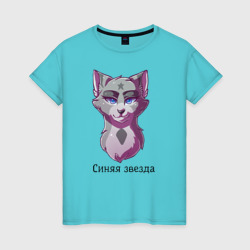cat: (89, 70, 154, 125)
